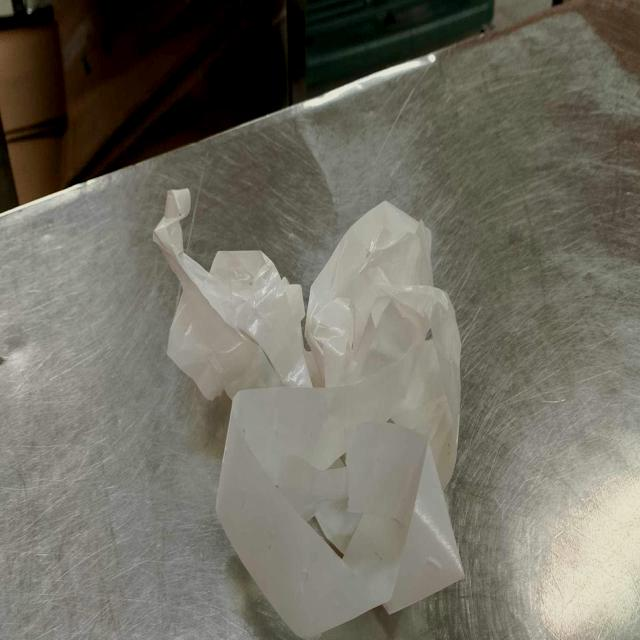General: (3, 2, 639, 637)
Infectious: (153, 186, 466, 637)
